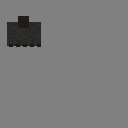armoured_vehicle: (7, 22, 41, 46)
